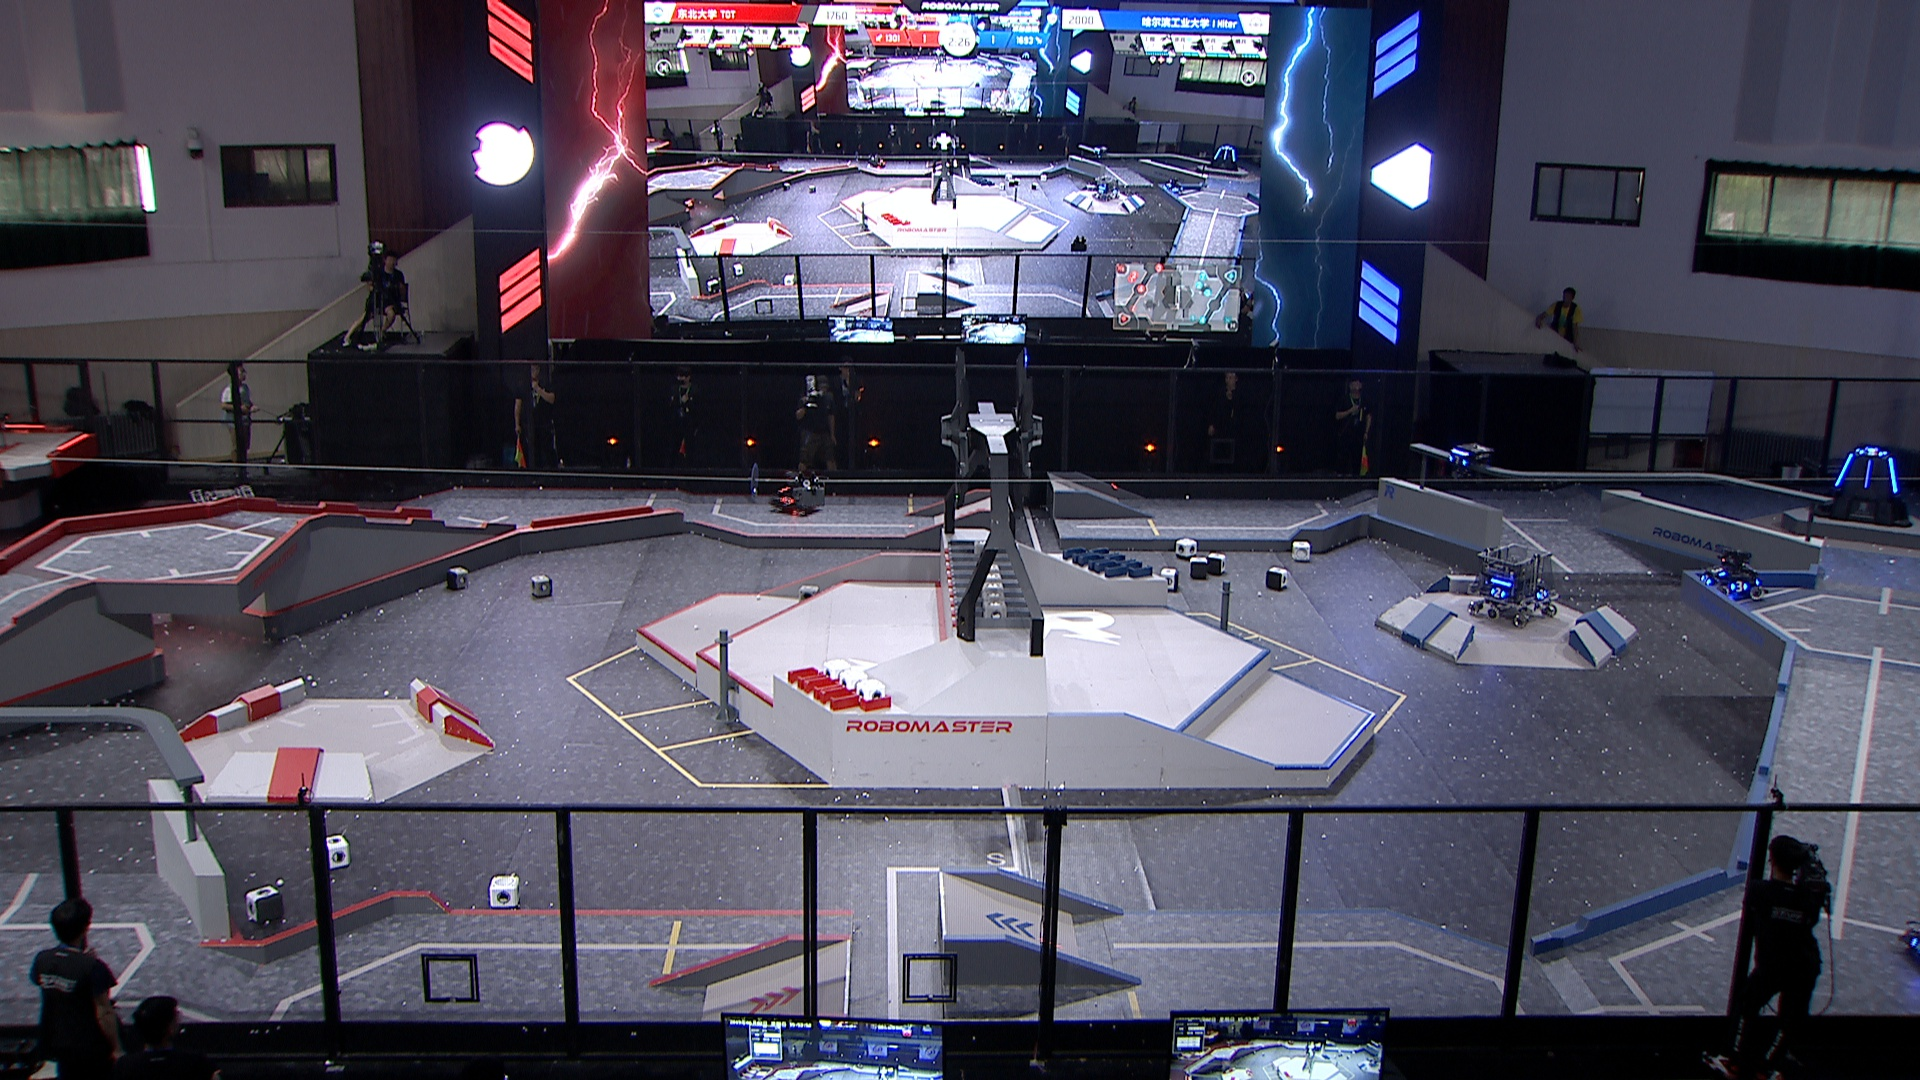armor: (1830, 452, 1855, 489), (1884, 454, 1902, 496), (1859, 455, 1874, 491), (1447, 450, 1470, 469), (1859, 444, 1884, 462), (1489, 584, 1509, 603), (1727, 578, 1750, 593), (1534, 585, 1549, 603), (1709, 564, 1727, 578), (779, 493, 795, 508), (1698, 570, 1713, 585)
base: (1809, 442, 1916, 531)
car: (1466, 538, 1560, 629), (179, 481, 268, 567), (1695, 545, 1768, 603), (770, 465, 825, 517), (1898, 891, 1920, 978)
ignore: (1087, 171, 1121, 204), (1209, 140, 1240, 171), (1160, 175, 1189, 196), (1091, 140, 1110, 164)
watcher: (1443, 434, 1495, 487)
